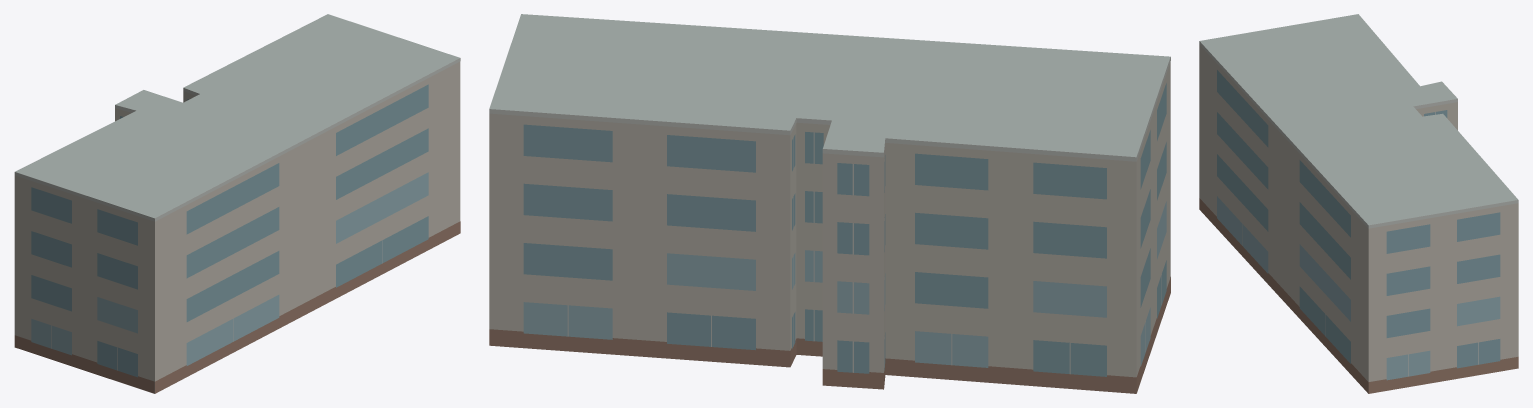
File: survey-upis-33047069.glb
3 renders of one model, left to right at view 1: azimuth 30°, elevation 25°; view 2: azimuth 150°, elevation 25°; view 3: azimuth 270°, elevation 25°, orthographic. The views are drawn at different scales.
Parts seen in each view (by area): view 1: survey-upis-33047069.tmp; view 2: survey-upis-33047069.tmp; view 3: survey-upis-33047069.tmp.
Boxes of the visible parts, left/top/right/bottom form: survey-upis-33047069.tmp: left=14, top=14, right=460, bottom=393; survey-upis-33047069.tmp: left=489, top=14, right=1170, bottom=393; survey-upis-33047069.tmp: left=1199, top=14, right=1518, bottom=393.
Size of the model in its own units: 33.9 by 12.6 by 21.63.
